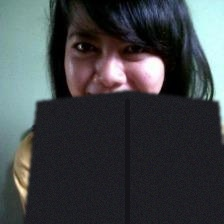Cadar_Niqab: (24, 1, 224, 224)
